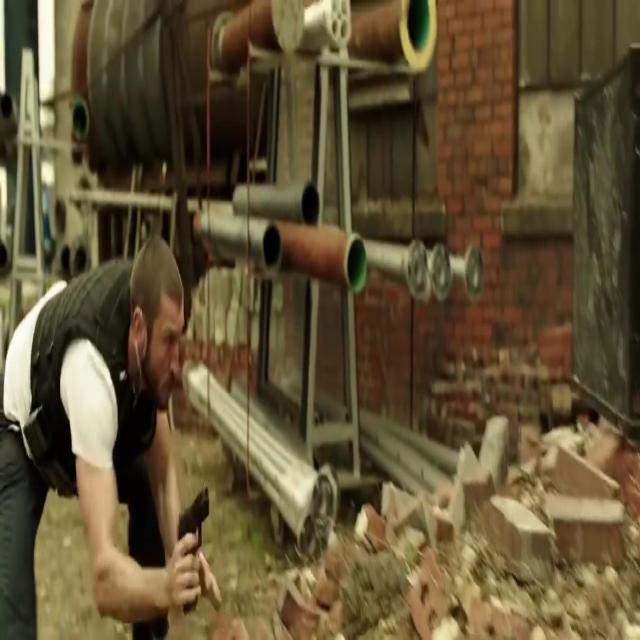Weapon: (174, 478, 220, 618)
